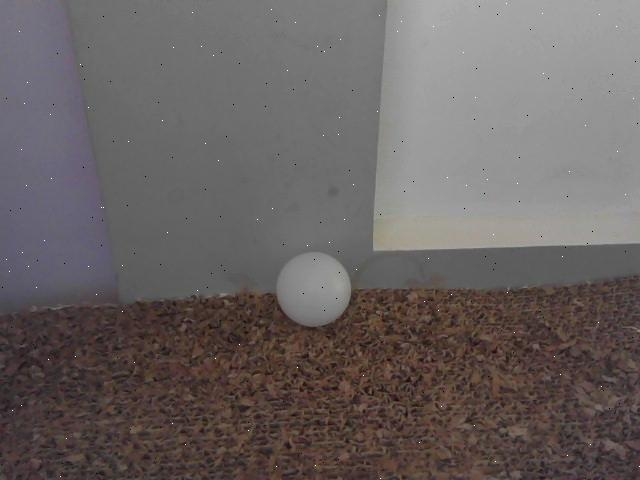ball: (274, 254, 352, 327)
